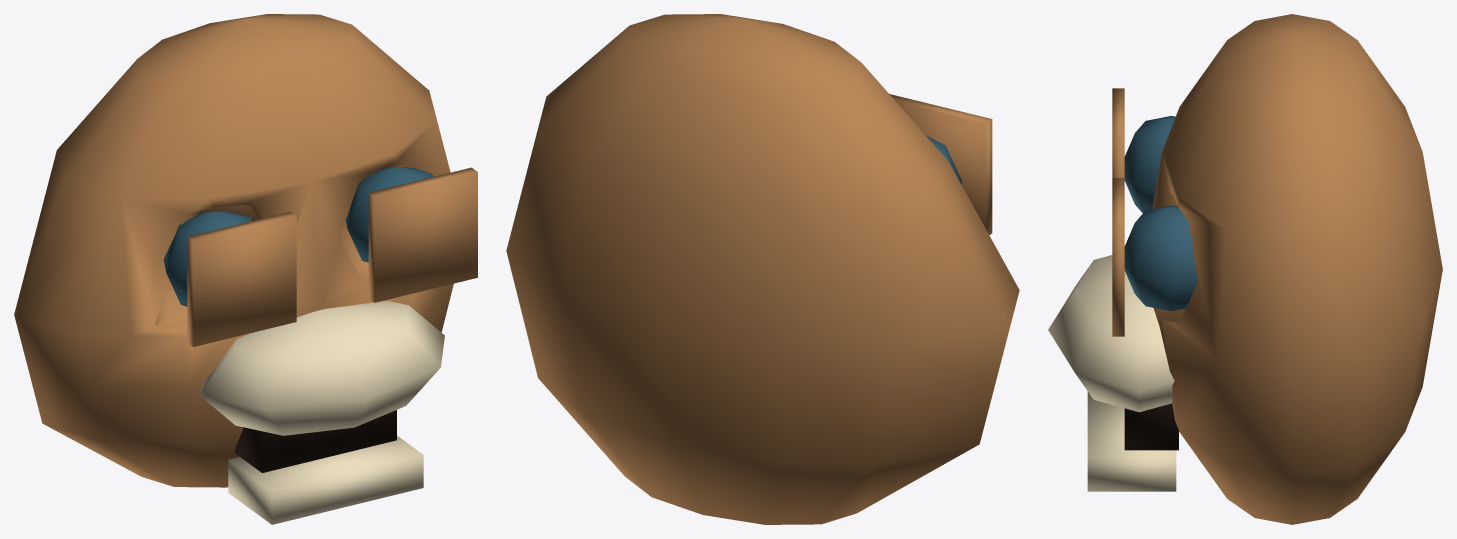
File: combined.glb
3 views of the same model, side by side, from view 1: azimuth 30°, elevation 25°; view 2: azimuth 150°, elevation 25°; view 3: azimuth 270°, elevation 25° (orthographic). The views are drawn at different scales.
Visible parts, largest first — view 1: sample_head, sample_upper_muzzle, sample_lid_L, sample_lid_R, sample_lower_jaw, sample_mouth_cavity, sample_eye_L, sample_eye_R; view 2: sample_head, sample_lid_L; view 3: sample_head, sample_upper_muzzle, sample_eye_R, sample_lower_jaw, sample_eye_L, sample_mouth_cavity, sample_lid_R, sample_lid_L.
Part boxes in pixels (bbox=[...]): sample_head: bbox=[14, 14, 453, 487]; sample_upper_muzzle: bbox=[199, 300, 444, 435]; sample_lid_L: bbox=[187, 212, 296, 346]; sample_lid_R: bbox=[368, 167, 477, 302]; sample_lower_jaw: bbox=[228, 435, 423, 524]; sample_mouth_cavity: bbox=[235, 410, 396, 472]; sample_eye_L: bbox=[163, 211, 252, 306]; sample_eye_R: bbox=[345, 167, 433, 262]; sample_head: bbox=[506, 14, 1019, 524]; sample_lid_L: bbox=[889, 94, 992, 234]; sample_head: bbox=[1152, 14, 1442, 524]; sample_upper_muzzle: bbox=[1048, 255, 1174, 412]; sample_eye_R: bbox=[1124, 205, 1197, 311]; sample_lower_jaw: bbox=[1087, 391, 1176, 491]; sample_eye_L: bbox=[1124, 116, 1175, 212]; sample_mouth_cavity: bbox=[1124, 403, 1178, 450]; sample_lid_R: bbox=[1112, 178, 1124, 336]; sample_lid_L: bbox=[1112, 88, 1124, 177].
Bounding box in the file's own units: 2.14 × 2.1 × 1.6.
